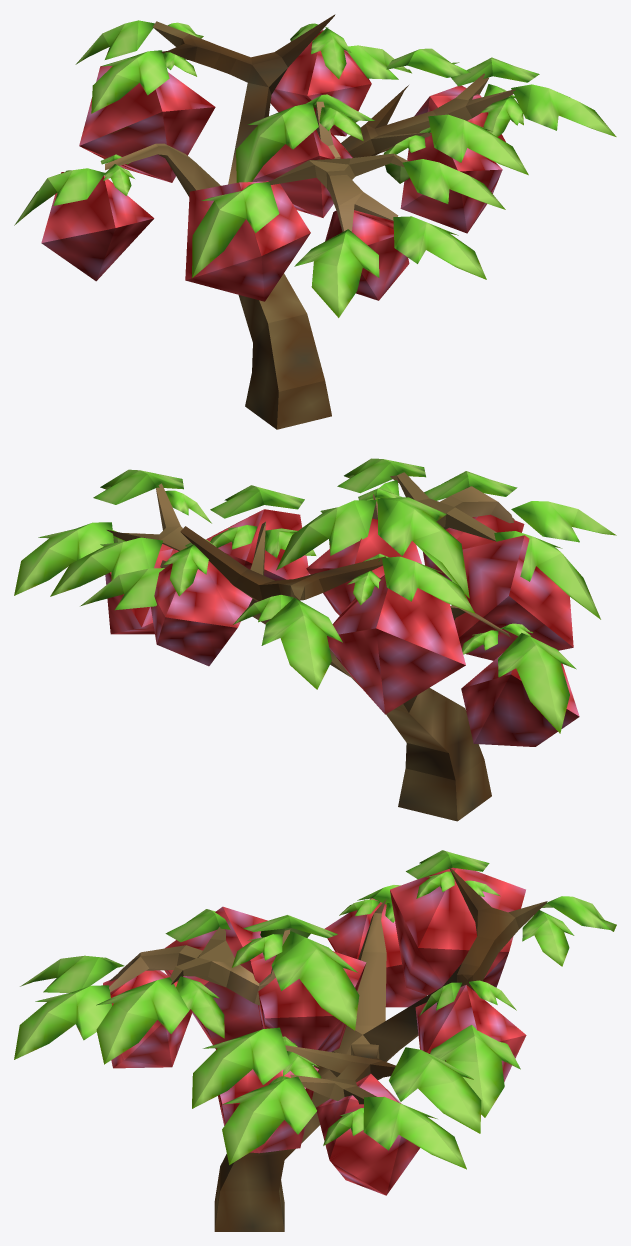
The model's file is Poly_Berry_Tree_01.obj.
The picture shows the model from 3 angles, top to bottom: view 1: azimuth 30°, elevation 25°; view 2: azimuth 150°, elevation 25°; view 3: azimuth 270°, elevation 25°; orthographic projection. The views are drawn at different scales.
Visible parts, largest first — view 1: Cube.002, Cube.001, Plane, Cube.004; view 2: Cube.002, Cube.001, Plane, Cube.004; view 3: Cube.001, Cube.002, Plane, Cube.004.
Part boxes in pixels (x1,y1,x2,y2): Cube.002: (41, 30, 505, 301); Cube.001: (14, 20, 616, 317); Plane: (105, 14, 515, 429); Cube.004: (100, 22, 523, 195); Cube.002: (105, 509, 579, 746); Cube.001: (14, 458, 616, 733); Plane: (107, 472, 514, 821); Cube.004: (112, 480, 533, 654); Cube.001: (14, 850, 616, 1169); Cube.002: (103, 867, 526, 1195); Plane: (109, 866, 547, 1231); Cube.004: (176, 871, 574, 1145).
Bounding box in the file's own units: 0.9786 × 0.5606 × 0.9132.
1 material, 1 textured.
